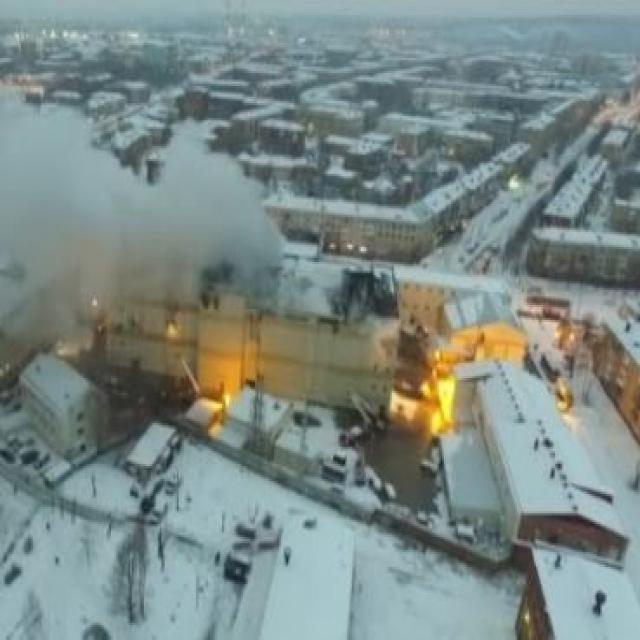Smoke: (0, 108, 282, 293)
